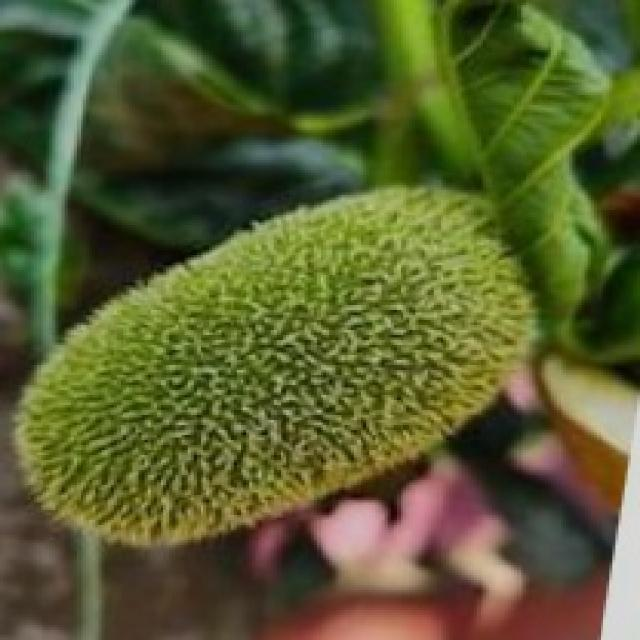Fruit: (0, 223, 397, 585)
